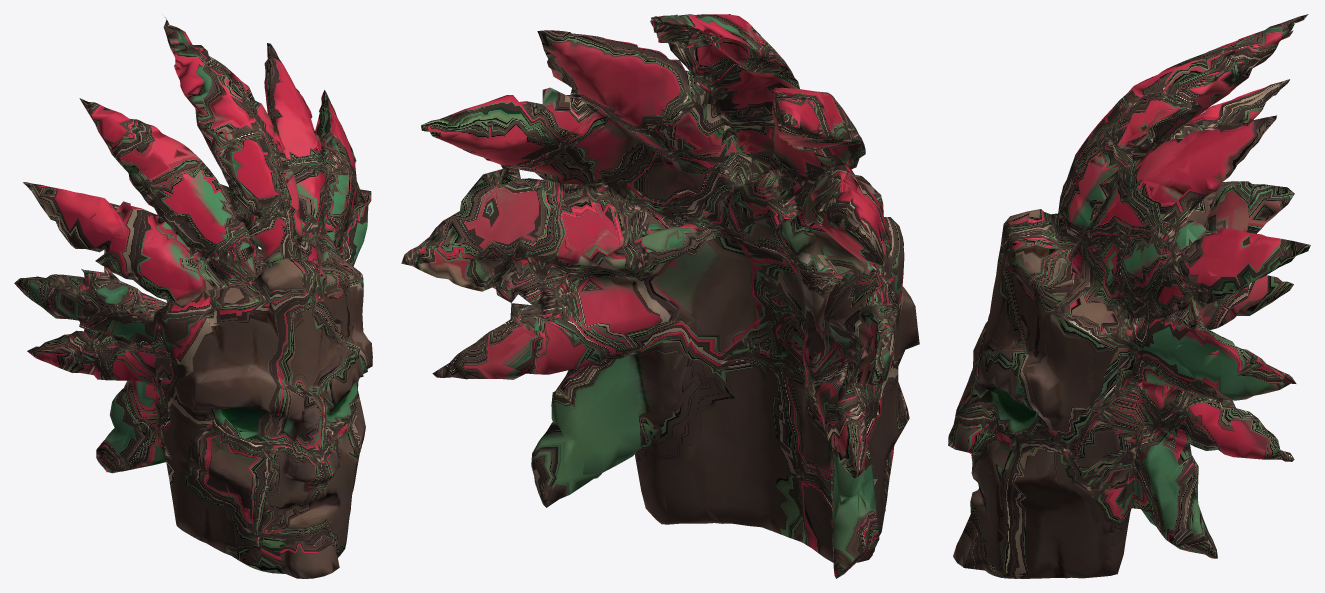
File: totem_helm.glb
3 views of the same model, side by side, from view 1: azimuth 30°, elevation 25°; view 2: azimuth 150°, elevation 25°; view 3: azimuth 270°, elevation 25° (orthographic). The views are drawn at different scales.
Size of the model in its own units: 0.4461 by 0.5821 by 0.3523.
Materials: 1 (1 with a texture image).
